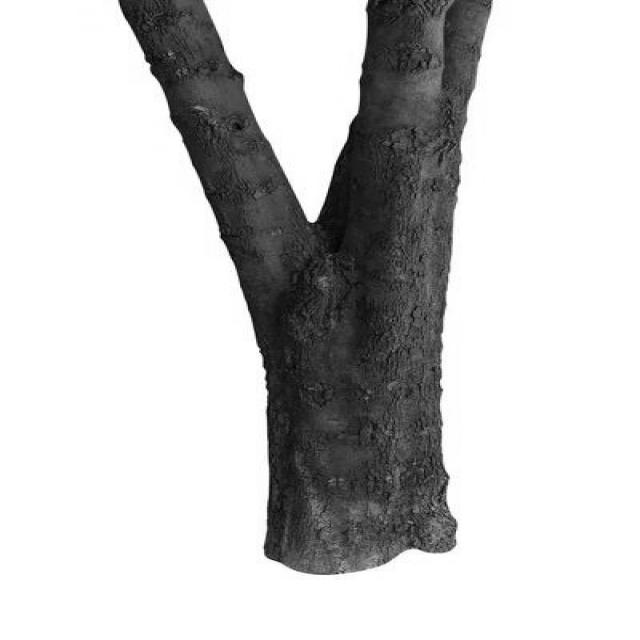Tree: (121, 0, 493, 574)
